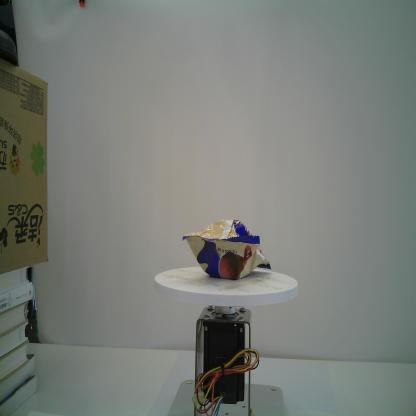Dessert: (180, 217, 274, 281)
